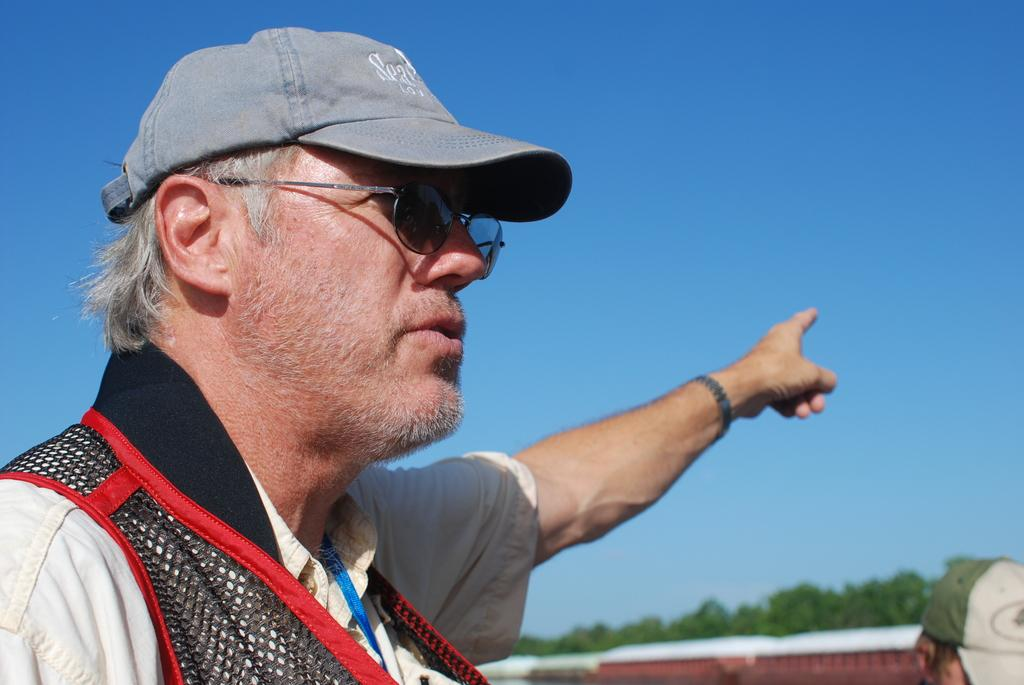Hat: (102, 23, 574, 222)
